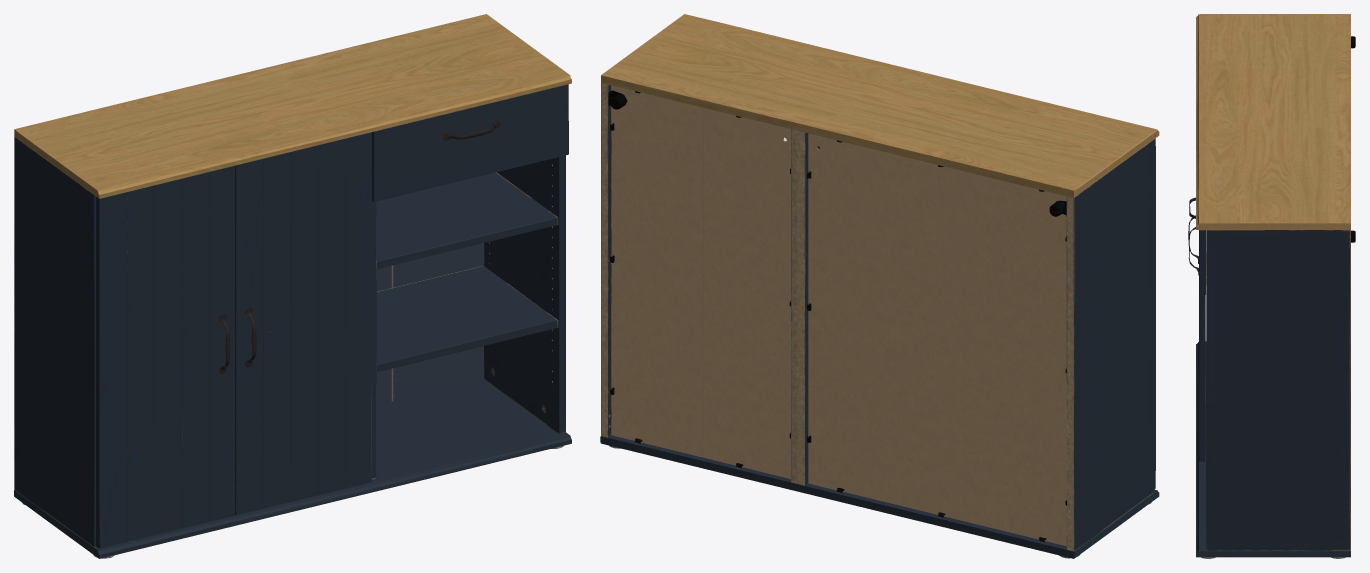
The model's file is skruvby_kredens_70568720.glb.
3 renders of one model, left to right at view 1: azimuth 30°, elevation 25°; view 2: azimuth 150°, elevation 25°; view 3: azimuth 270°, elevation 25°, orthographic. The views are drawn at different scales.
Visible parts, largest first — view 1: skruvby_kredens_70568720; view 2: skruvby_kredens_70568720; view 3: skruvby_kredens_70568720.
Boxes of the visible parts, left/top/right/bottom form: skruvby_kredens_70568720: left=14, top=14, right=571, bottom=558; skruvby_kredens_70568720: left=600, top=14, right=1159, bottom=558; skruvby_kredens_70568720: left=1188, top=14, right=1355, bottom=558.
Bounding box in the file's own units: 1.2 × 0.8994 × 0.4054.
1 material, 1 textured.
